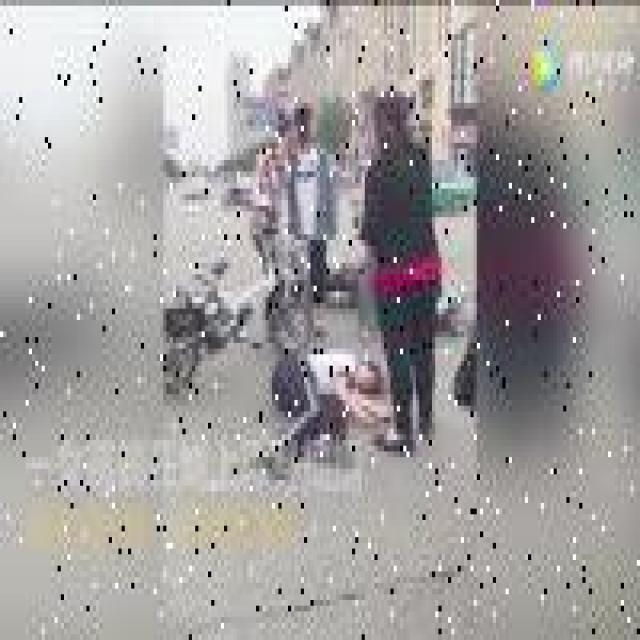fall: (253, 343, 381, 480)
